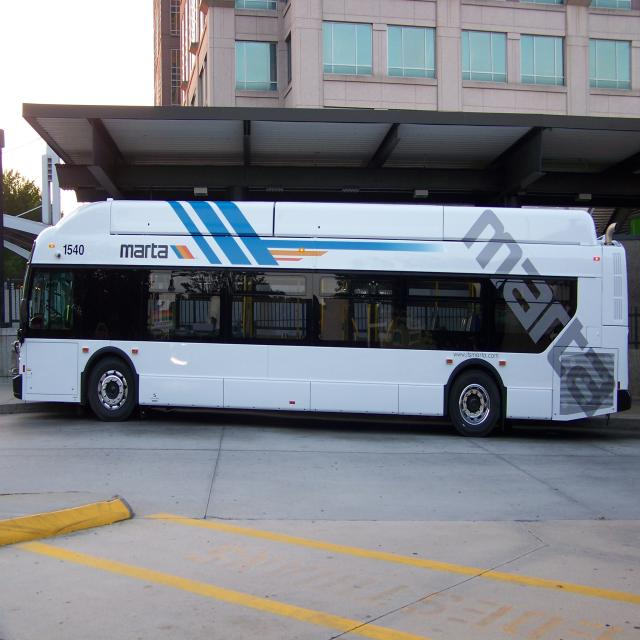Bus: (13, 199, 629, 432)
